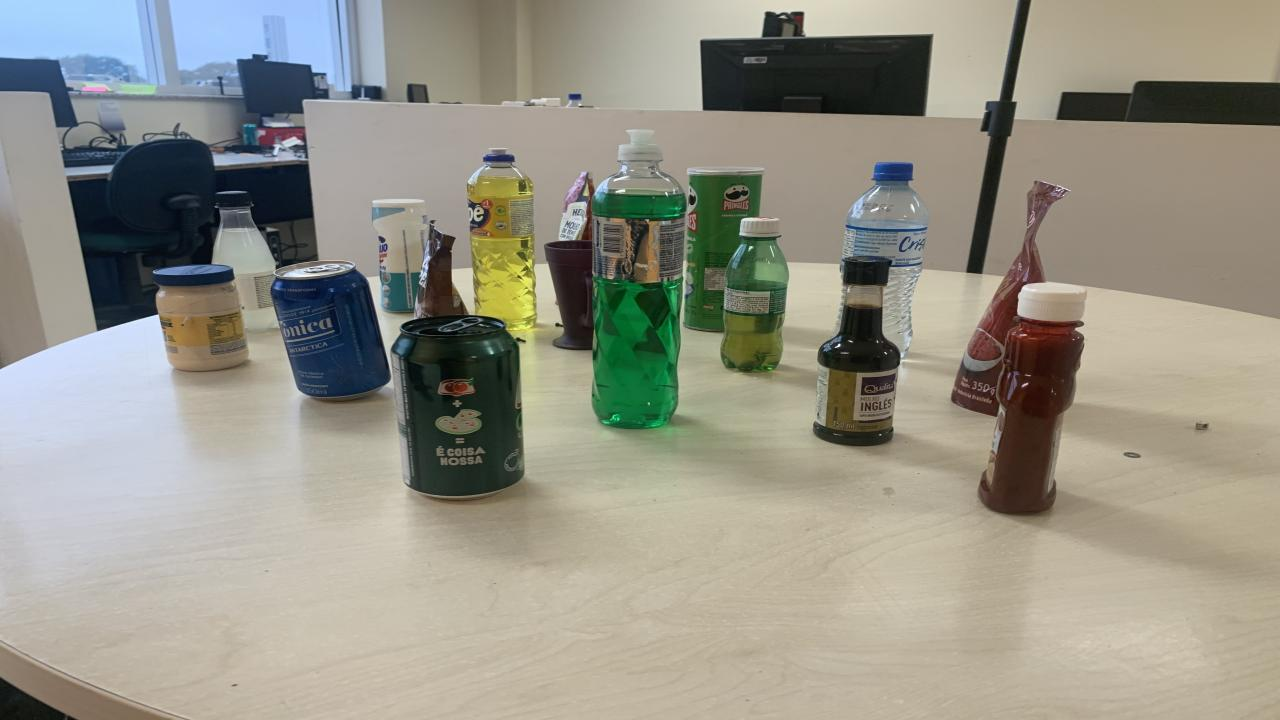Cleaner-Cleanup_Items: (372, 199, 428, 311)
Coffee-Pantry_Items: (415, 221, 468, 319)
Detergent-Cleanup_Items: (592, 131, 685, 428), (468, 148, 538, 330)
English_Sauce-Pantry_Items: (812, 257, 900, 446)
Guarana-Drinks: (720, 218, 790, 371)
Guarana_Can-Drinks: (390, 315, 525, 499)
Ketchup-Pantry_Items: (978, 281, 1088, 514)
Mayonnaise-Pantry_Items: (155, 264, 250, 371)
Pringles-Snacks: (682, 174, 762, 332)
Soda-Drinks: (212, 191, 278, 332)
Tomato_Sauce-Pantry_Items: (950, 182, 1068, 414), (558, 171, 592, 240)
Tonic-Drinks: (270, 261, 390, 399)
Water_Bottle-Drinks: (842, 161, 930, 354)
